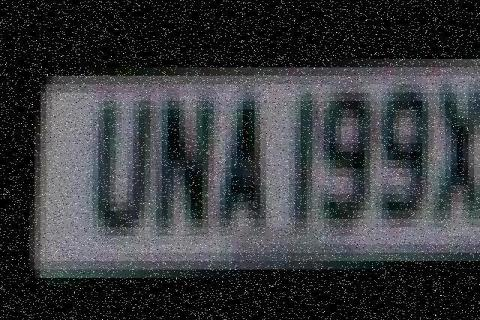LicensePlate: (18, 31, 480, 292)
